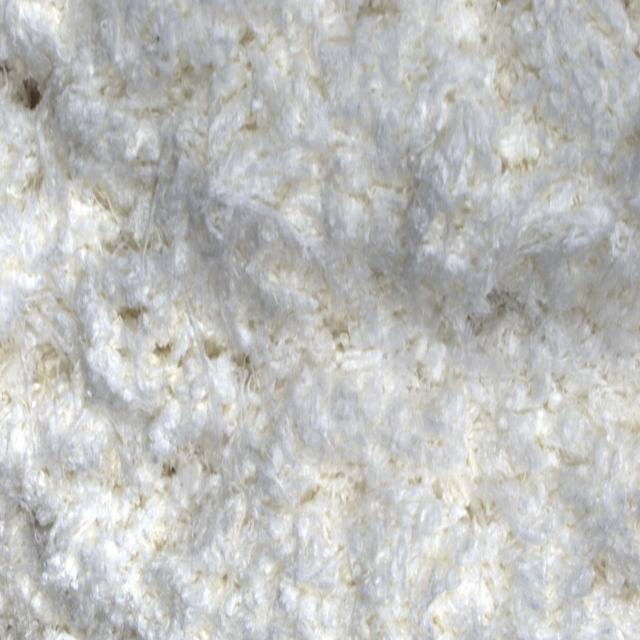dust: (16, 71, 46, 113)
